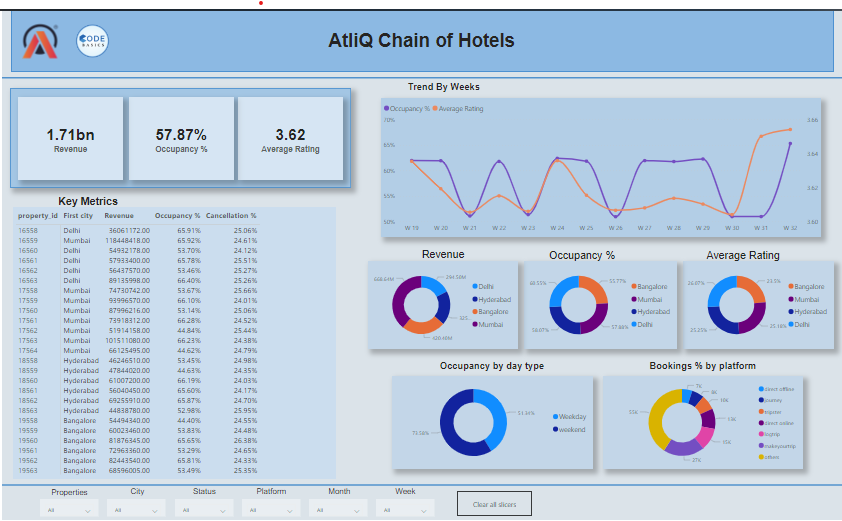

Layout of this report page (visuals, bound fields, positions):
{"tool":"powerbi","page":{"name":"Report","canvas":[1680,1020],"ordinal":0},"visuals":[{"type":"shape","box":[18,0,1646,124],"z":0},{"type":"image","box":[31.7,21.7,90,80],"z":1000},{"type":"image","box":[136.7,21.7,90,80],"z":2000},{"type":"textbox","box":[646.7,33.3,386.7,56.7],"z":3000},{"type":"shape","box":[0,123.3,1680,23.3],"z":4000},{"type":"shape","box":[15.6,155.6,682.2,200],"z":5000},{"type":"card","fields":{"Values":["Resources.Revenue"]},"box":[32,174,210,166],"z":6000},{"type":"card","fields":{"Values":["Resources.Occupancy %"]},"box":[253.3,174.4,210,165.6],"z":7000},{"type":"card","fields":{"Values":["Resources.Average Rating"]},"box":[472.2,174.4,210,165.6],"z":8000},{"type":"lineChart","fields":{"Y2":["Resources.Average Rating"],"Y":["Resources.Occupancy %"],"Category":["dim_date.week no"]},"box":[757.5,175,880,277.5],"z":9000},{"type":"textbox","box":[780,138,208,36],"z":10000},{"type":"shape","box":[0,938,1680,24],"z":11000},{"type":"donutChart","fields":{"Category":["dim_hotels.city"],"Y":["Resources.Revenue"]},"box":[732,502,300,176],"z":12000},{"type":"donutChart","fields":{"Category":["dim_hotels.city"],"Y":["Resources.Average Rating"]},"box":[1362,502,302,176],"z":13000},{"type":"donutChart","fields":{"Category":["dim_hotels.city"],"Y":["Resources.Occupancy %"]},"box":[1044,502,306,176],"z":14000},{"type":"textbox","box":[731.4,471.4,300,40],"z":15000},{"type":"textbox","box":[1040,474,240,36],"z":16000},{"type":"textbox","box":[1362,474,240,36],"z":17000},{"type":"donutChart","fields":{"Category":["dim_date.day_type"],"Y":["Resources.Occupancy %"]},"box":[780,732,402,186],"z":18000},{"type":"textbox","box":[780,696,400,36],"z":19000},{"type":"donutChart","fields":{"Category":["fact_bookings.booking_platform"],"Y":["Resources.Total Bookings"]},"box":[1202,732,400,186],"z":20000},{"type":"textbox","box":[1202,696,400,36],"z":21000},{"type":"pivotTable","fields":{"Rows":["dim_hotels.property_id"],"Values":["Min(dim_hotels.city)","Resources.Revenue","Resources.Occupancy %","Resources.Cancellation %"]},"box":[22,394,646,544],"z":22000},{"type":"textbox","box":[22.5,365,300,40],"z":23000},{"type":"slicer","fields":{"Values":["dim_hotels.property_name"]},"box":[76.4,977.3,117.3,34.5],"z":24000},{"type":"slicer","fields":{"Values":["dim_hotels.city"]},"box":[210.7,977.3,117.3,34.5],"z":25000},{"type":"slicer","fields":{"Values":["fact_bookings.booking_status"]},"box":[345.1,977.3,117.3,34.5],"z":26000},{"type":"slicer","fields":{"Values":["fact_bookings.booking_platform"]},"box":[479.5,977.3,117.3,34.5],"z":27000},{"type":"slicer","fields":{"Values":["dim_date.date.Variation.Date Hierarchy.Month"]},"box":[613.8,977.3,117.3,34.5],"z":28000},{"type":"slicer","fields":{"Values":["dim_date.week no"]},"box":[748.2,977.3,117.3,34.5],"z":29000},{"type":"textbox","box":[76.2,950,117.5,27.5],"z":30000},{"type":"textbox","box":[211.2,947.5,117.5,27.5],"z":31000},{"type":"textbox","box":[345,947.5,117.5,27.5],"z":32000},{"type":"textbox","box":[480,947.5,117.5,27.5],"z":33000},{"type":"textbox","box":[615,947.5,117.5,27.5],"z":34000},{"type":"textbox","box":[748.8,947.5,117.5,27.5],"z":35000},{"type":"actionButton","box":[910,962.2,150,50],"z":36000}]}

Visuals, with their boxes in screenshot pixels (x1, y1, x2, y2), scaled from the page's 1680x1020 canvas onto the 842x521 screenshot:
shape: {"x1": 9, "y1": 0, "x2": 834, "y2": 63}
image: {"x1": 16, "y1": 11, "x2": 61, "y2": 52}
image: {"x1": 69, "y1": 11, "x2": 114, "y2": 52}
textbox: {"x1": 324, "y1": 17, "x2": 518, "y2": 46}
shape: {"x1": 0, "y1": 63, "x2": 841, "y2": 75}
shape: {"x1": 8, "y1": 79, "x2": 350, "y2": 182}
card - Resources.Revenue: {"x1": 16, "y1": 89, "x2": 121, "y2": 174}
card - Resources.Occupancy %: {"x1": 127, "y1": 89, "x2": 232, "y2": 174}
card - Resources.Average Rating: {"x1": 237, "y1": 89, "x2": 342, "y2": 174}
lineChart - Resources.Average Rating x Resources.Occupancy %: {"x1": 380, "y1": 89, "x2": 821, "y2": 231}
textbox: {"x1": 391, "y1": 70, "x2": 495, "y2": 89}
shape: {"x1": 0, "y1": 479, "x2": 841, "y2": 491}
donutChart - dim_hotels.city x Resources.Revenue: {"x1": 367, "y1": 256, "x2": 517, "y2": 346}
donutChart - dim_hotels.city x Resources.Average Rating: {"x1": 683, "y1": 256, "x2": 834, "y2": 346}
donutChart - dim_hotels.city x Resources.Occupancy %: {"x1": 523, "y1": 256, "x2": 677, "y2": 346}
textbox: {"x1": 367, "y1": 241, "x2": 517, "y2": 261}
textbox: {"x1": 521, "y1": 242, "x2": 642, "y2": 260}
textbox: {"x1": 683, "y1": 242, "x2": 803, "y2": 260}
donutChart - dim_date.day_type x Resources.Occupancy %: {"x1": 391, "y1": 374, "x2": 592, "y2": 469}
textbox: {"x1": 391, "y1": 356, "x2": 591, "y2": 374}
donutChart - fact_bookings.booking_platform x Resources.Total Bookings: {"x1": 602, "y1": 374, "x2": 803, "y2": 469}
textbox: {"x1": 602, "y1": 356, "x2": 803, "y2": 374}
pivotTable - dim_hotels.property_id x Min(dim_hotels.city): {"x1": 11, "y1": 201, "x2": 335, "y2": 479}
textbox: {"x1": 11, "y1": 186, "x2": 162, "y2": 207}
slicer - dim_hotels.property_name: {"x1": 38, "y1": 499, "x2": 97, "y2": 517}
slicer - dim_hotels.city: {"x1": 106, "y1": 499, "x2": 164, "y2": 517}
slicer - fact_bookings.booking_status: {"x1": 173, "y1": 499, "x2": 232, "y2": 517}
slicer - fact_bookings.booking_platform: {"x1": 240, "y1": 499, "x2": 299, "y2": 517}
slicer - dim_date.date.Variation.Date Hierarchy.Month: {"x1": 308, "y1": 499, "x2": 366, "y2": 517}
slicer - dim_date.week no: {"x1": 375, "y1": 499, "x2": 434, "y2": 517}
textbox: {"x1": 38, "y1": 485, "x2": 97, "y2": 499}
textbox: {"x1": 106, "y1": 484, "x2": 165, "y2": 498}
textbox: {"x1": 173, "y1": 484, "x2": 232, "y2": 498}
textbox: {"x1": 241, "y1": 484, "x2": 299, "y2": 498}
textbox: {"x1": 308, "y1": 484, "x2": 367, "y2": 498}
textbox: {"x1": 375, "y1": 484, "x2": 434, "y2": 498}
actionButton: {"x1": 456, "y1": 491, "x2": 531, "y2": 517}
